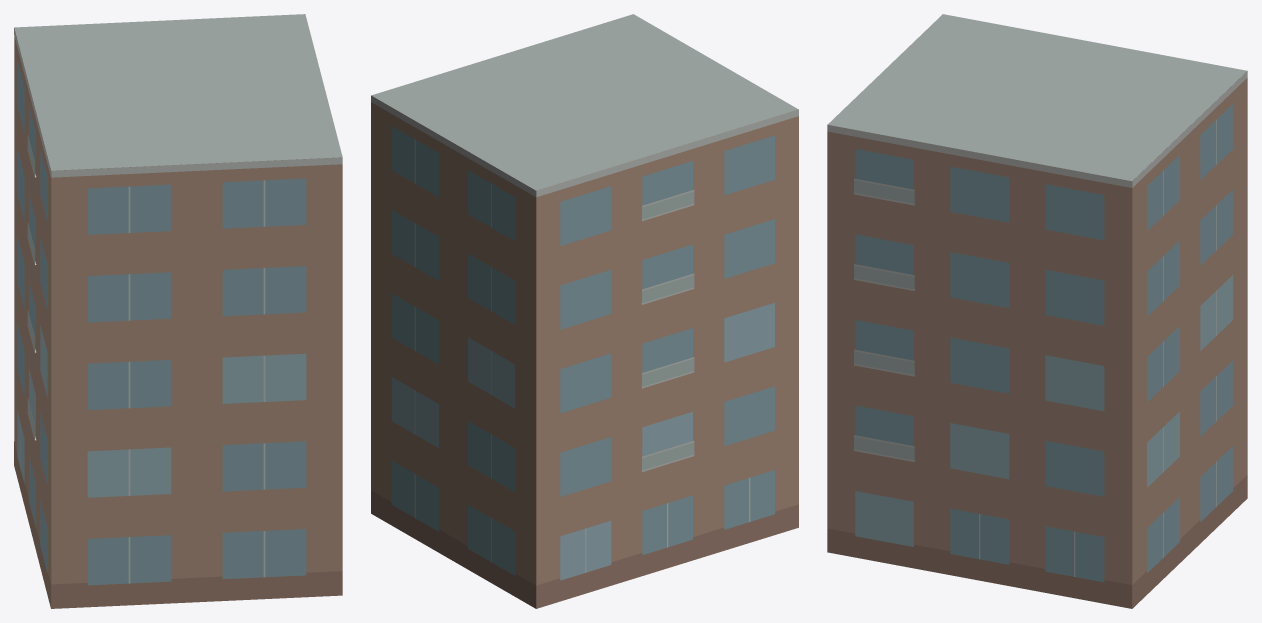
The model's file is survey-upis-32525624.glb.
The picture shows the model from 3 angles, left to right: view 1: azimuth 30°, elevation 25°; view 2: azimuth 150°, elevation 25°; view 3: azimuth 270°, elevation 25°; orthographic projection. The views are drawn at different scales.
Visible parts, largest first — view 1: survey-upis-32525624.tmp; view 2: survey-upis-32525624.tmp; view 3: survey-upis-32525624.tmp.
Part boxes in pixels (bbox=[...]): survey-upis-32525624.tmp: bbox=[14, 14, 342, 608]; survey-upis-32525624.tmp: bbox=[371, 14, 798, 608]; survey-upis-32525624.tmp: bbox=[827, 14, 1247, 608].
Size of the model in its own units: 12.93 by 15.4 by 13.72.
